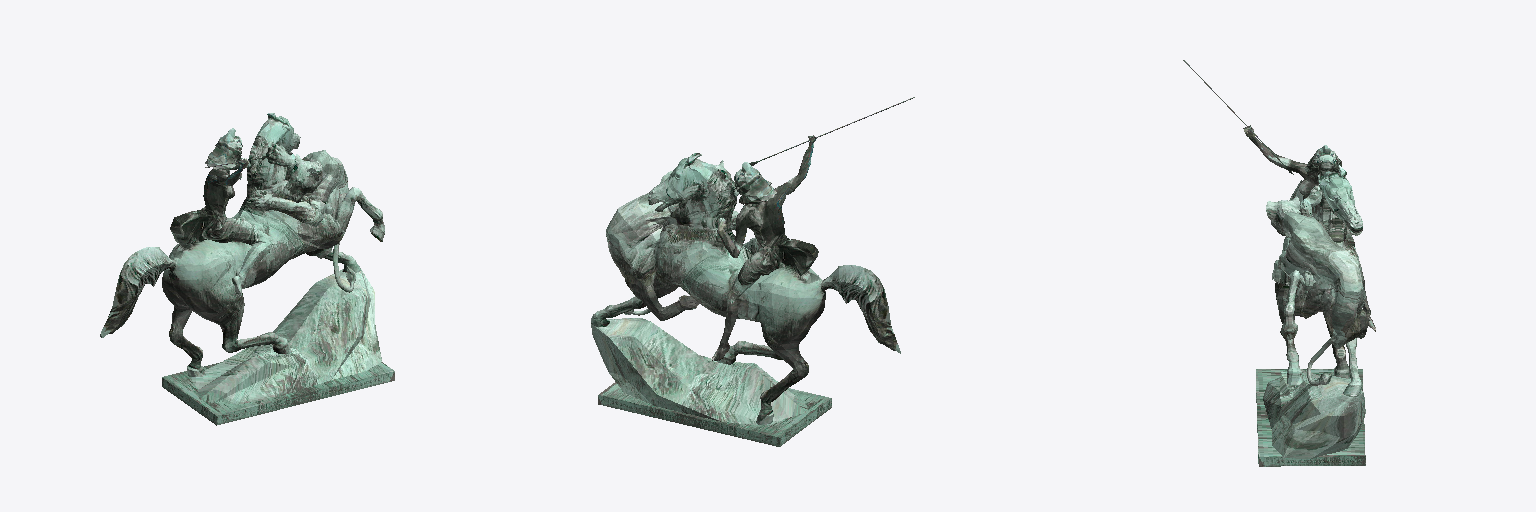
The picture shows the model from 3 angles: view 1: azimuth 30°, elevation 25°; view 2: azimuth 150°, elevation 25°; view 3: azimuth 270°, elevation 25°; orthographic projection.
Visible parts, largest first — view 1: amazone_amazone.002; view 2: amazone_amazone.002; view 3: amazone_amazone.002.
Boxes of the visible parts, x1,y1,x2,y2 form: amazone_amazone.002: [100, 113, 394, 425]; amazone_amazone.002: [591, 97, 914, 446]; amazone_amazone.002: [1183, 60, 1375, 466].
Bounding box in the file's own units: 435 × 428 × 253.
1 materials, 1 textured.